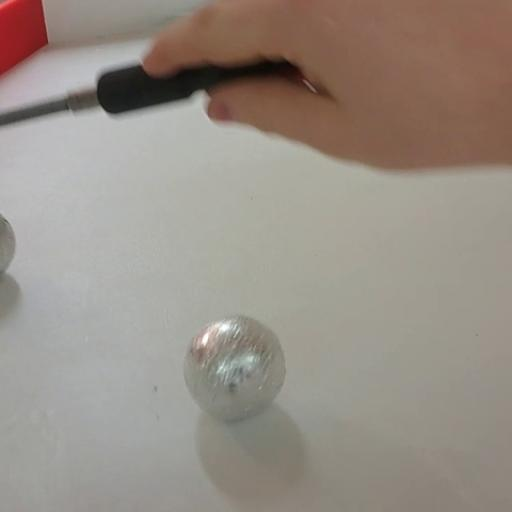alive: (181, 313, 289, 423), (0, 211, 18, 277)
